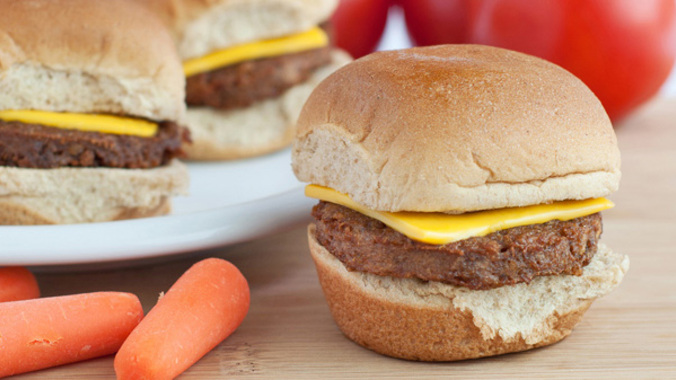hamburger_buns: (293, 51, 632, 219), (270, 247, 615, 367)
